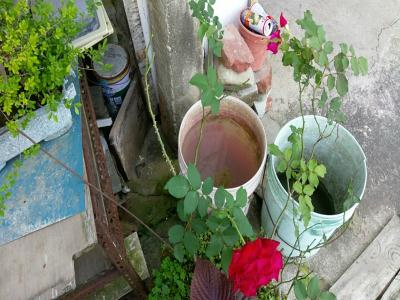bottle: (89, 40, 134, 115), (239, 8, 277, 38)
bucket: (253, 113, 371, 263), (176, 92, 268, 236), (235, 18, 272, 70)
